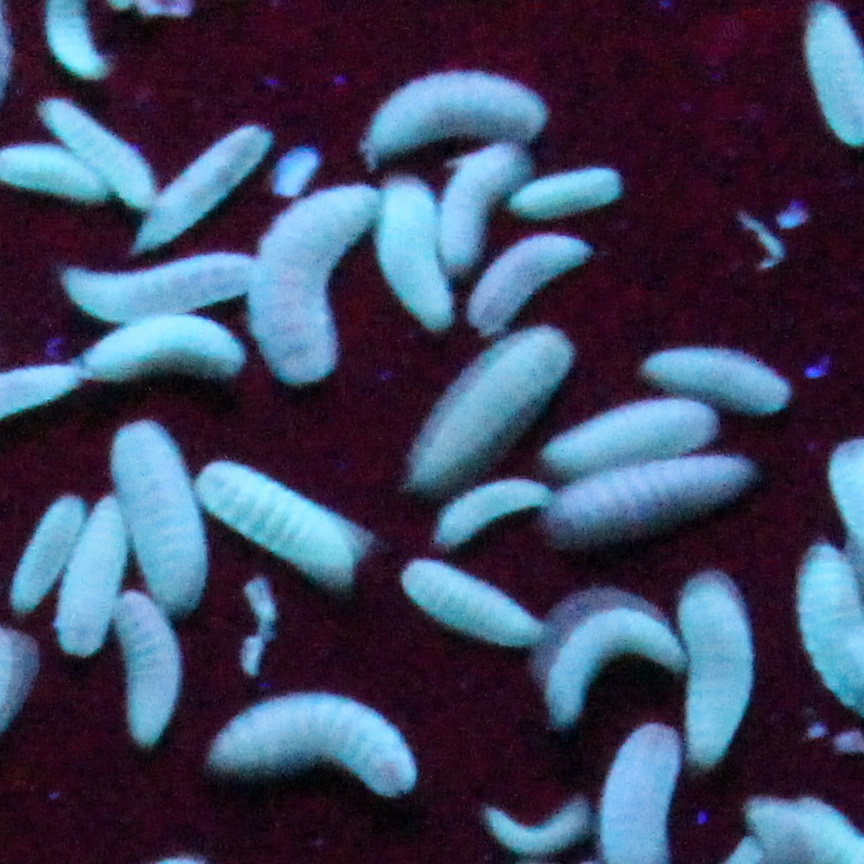larve: (413, 339, 579, 489), (255, 184, 375, 381), (211, 694, 420, 805), (195, 451, 368, 578), (110, 416, 206, 612), (540, 591, 673, 729), (137, 122, 276, 247), (362, 74, 552, 163), (552, 460, 745, 540), (681, 563, 752, 770), (31, 89, 152, 206), (545, 398, 717, 473), (64, 251, 248, 320), (472, 233, 590, 335), (642, 334, 794, 411), (402, 558, 534, 646), (57, 491, 128, 654), (380, 175, 450, 325), (110, 592, 176, 746), (79, 327, 240, 384), (10, 489, 82, 615), (442, 144, 519, 261), (435, 491, 548, 546), (478, 800, 589, 854), (517, 167, 623, 213)
